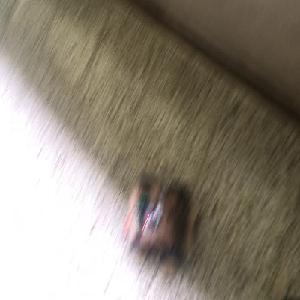Robot: (122, 176, 198, 272)
